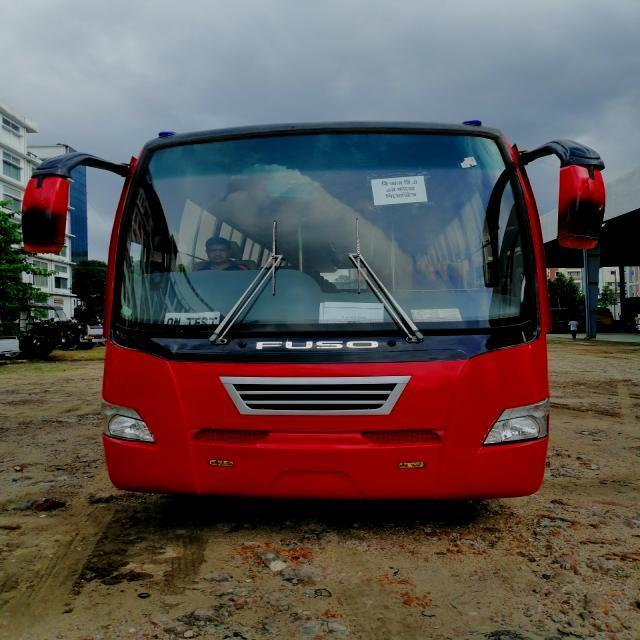Bus: (9, 96, 640, 528)
